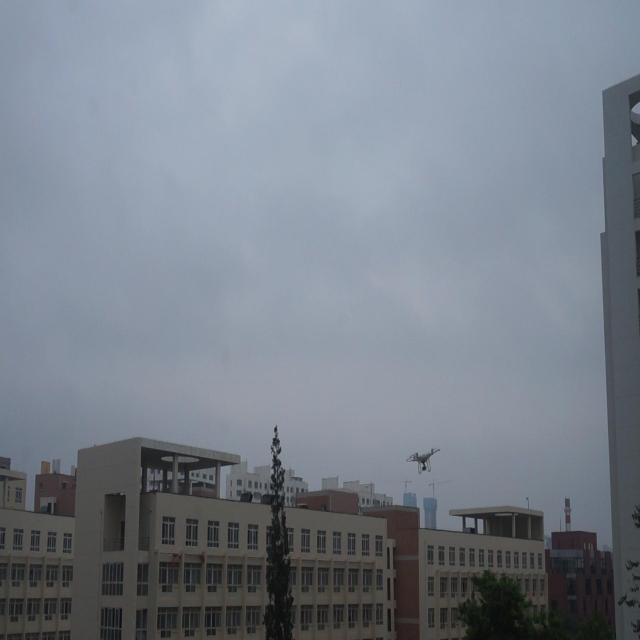drone: (406, 443, 442, 477)
